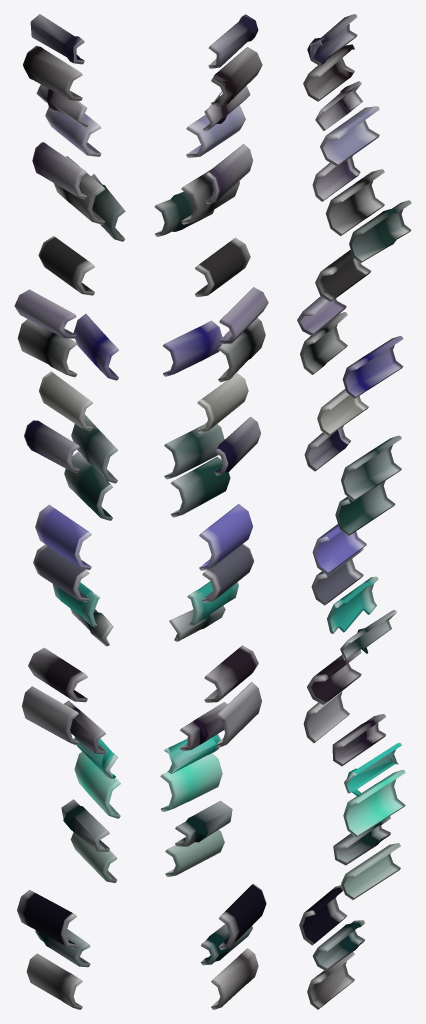
The model's file is SM_BackDropPipesBottom.fbx.
3 renders of one model, left to right at view 1: azimuth 30°, elevation 25°; view 2: azimuth 150°, elevation 25°; view 3: azimuth 330°, elevation 25°, orthographic.
Parts seen in each view (by area): view 1: grid1; view 2: grid1; view 3: grid1.
Boxes of the visible parts, x1=… form: grid1: x1=14, y1=14, x2=125, y2=1009; grid1: x1=154, y1=14, x2=268, y2=1009; grid1: x1=297, y1=14, x2=411, y2=1009.
Size of the model in its own units: 137 by 1549 by 119.
